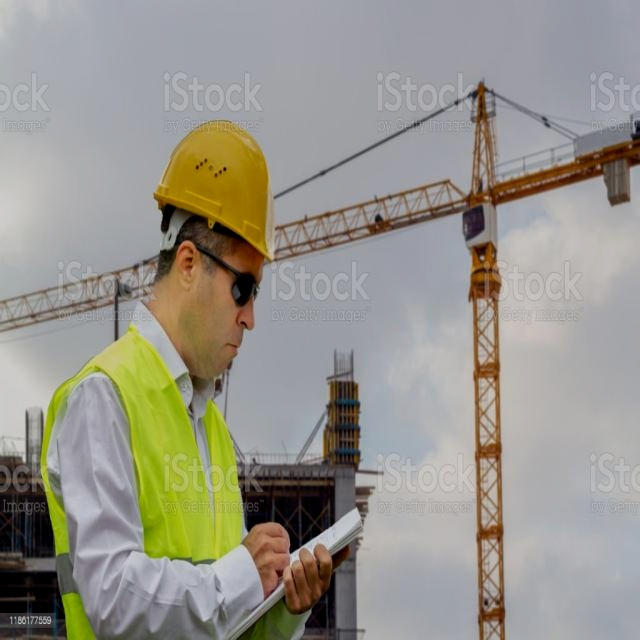goggles: (160, 234, 272, 314)
helmet: (151, 113, 292, 274)
vest: (35, 326, 294, 640)
